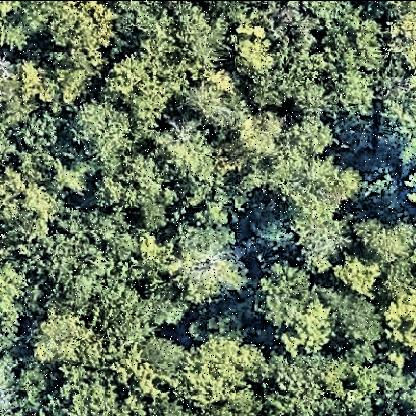tree-top: (59, 231, 177, 335), (225, 5, 309, 100), (316, 15, 384, 113), (40, 4, 117, 90), (170, 217, 245, 303), (103, 44, 180, 123), (185, 340, 265, 414), (263, 278, 335, 358), (157, 127, 227, 207), (251, 265, 323, 339), (263, 356, 343, 416), (374, 55, 416, 167), (66, 100, 134, 169), (94, 156, 166, 221), (287, 209, 355, 275), (31, 312, 101, 370), (1, 174, 58, 244), (354, 210, 414, 267), (329, 293, 385, 350), (382, 274, 416, 366), (2, 54, 44, 128), (234, 106, 288, 162), (331, 252, 385, 301), (383, 3, 416, 71), (142, 332, 188, 378), (1, 254, 26, 330), (1, 4, 24, 55)
